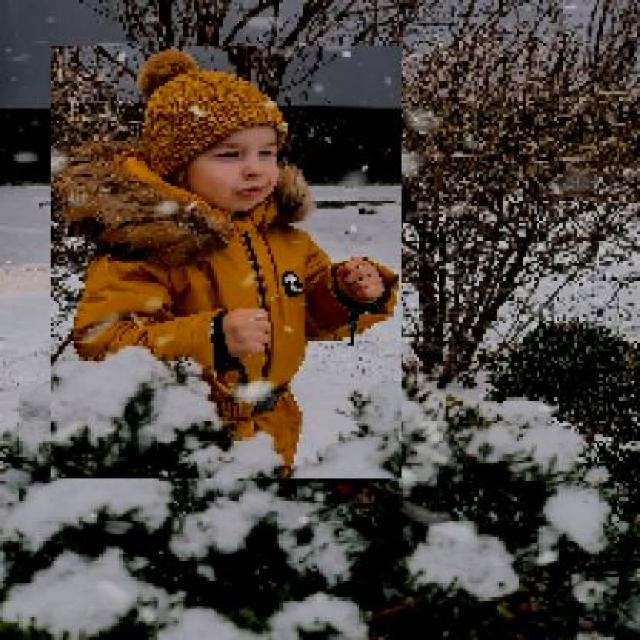child: (49, 46, 402, 480)
